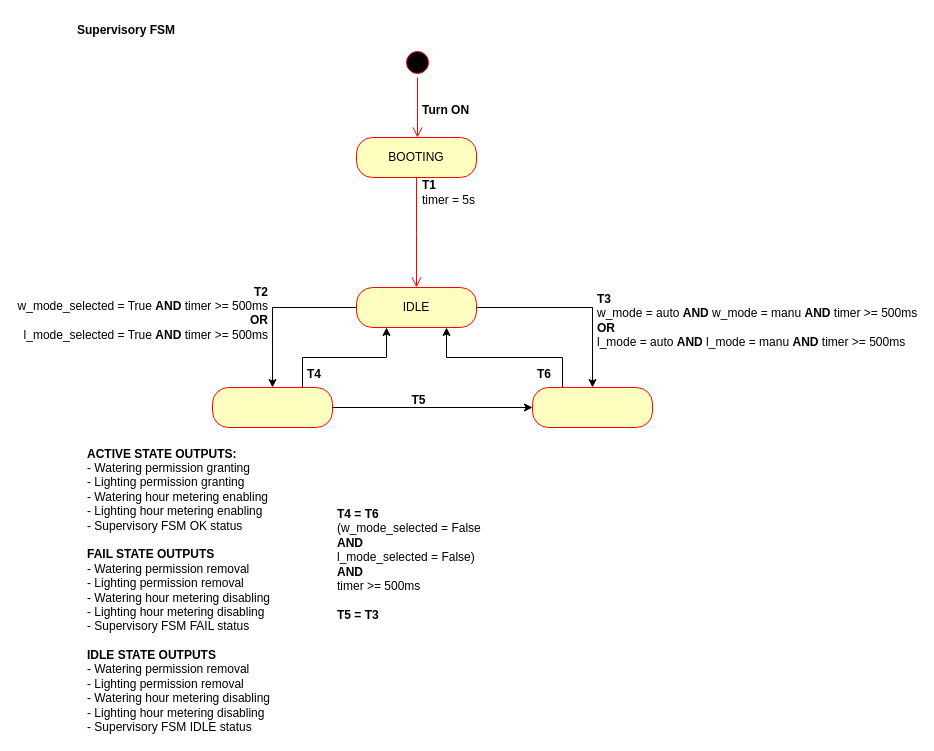
The diagram is 934 pixels wide and 751 high, and some of its shapes have lost their labels. The centre of each missing label's shape, as x and y in pixels:
ACTIVE: (x=272, y=407)
FAIL: (x=592, y=407)
